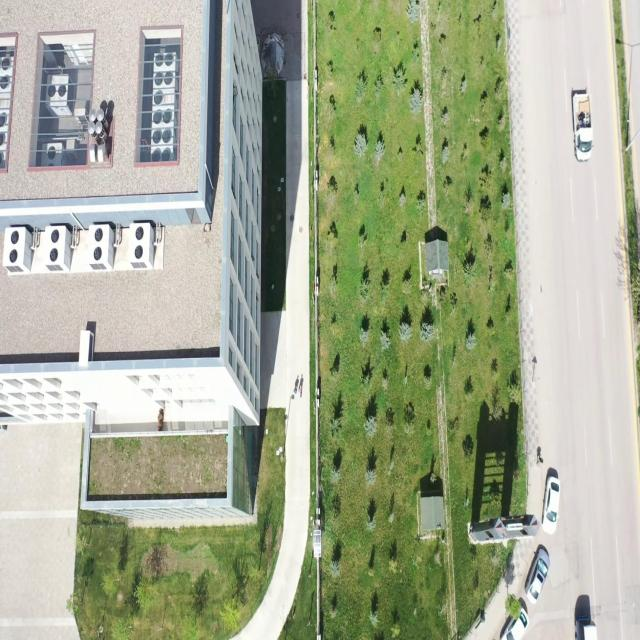p3rson: (536, 457, 544, 466), (293, 388, 297, 394), (298, 387, 302, 393)
